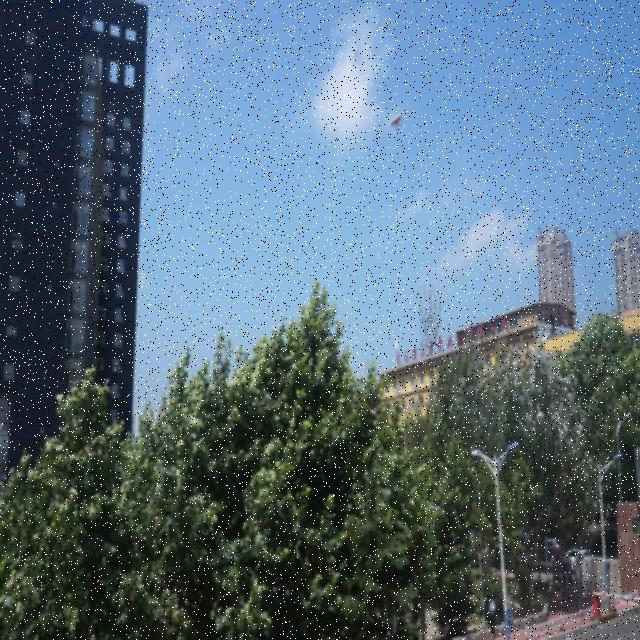UAV: (387, 110, 407, 131)
